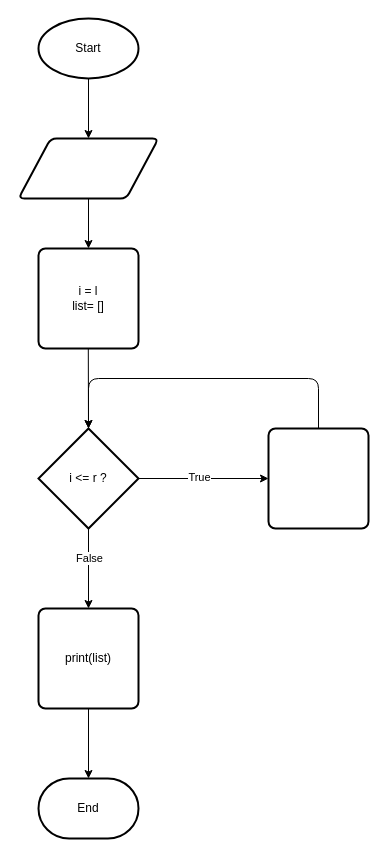
Some shapes in this 386 by 856 pixel diagram are drawn without their labels. The shapes that lost their labels are listed below. From the top down, each one's box as (x1, y1, x2, y2) in pixels, then its label:
(17, 137, 159, 199): INPUT l, r
(267, 427, 369, 529): list.append(i) i = i + 1
